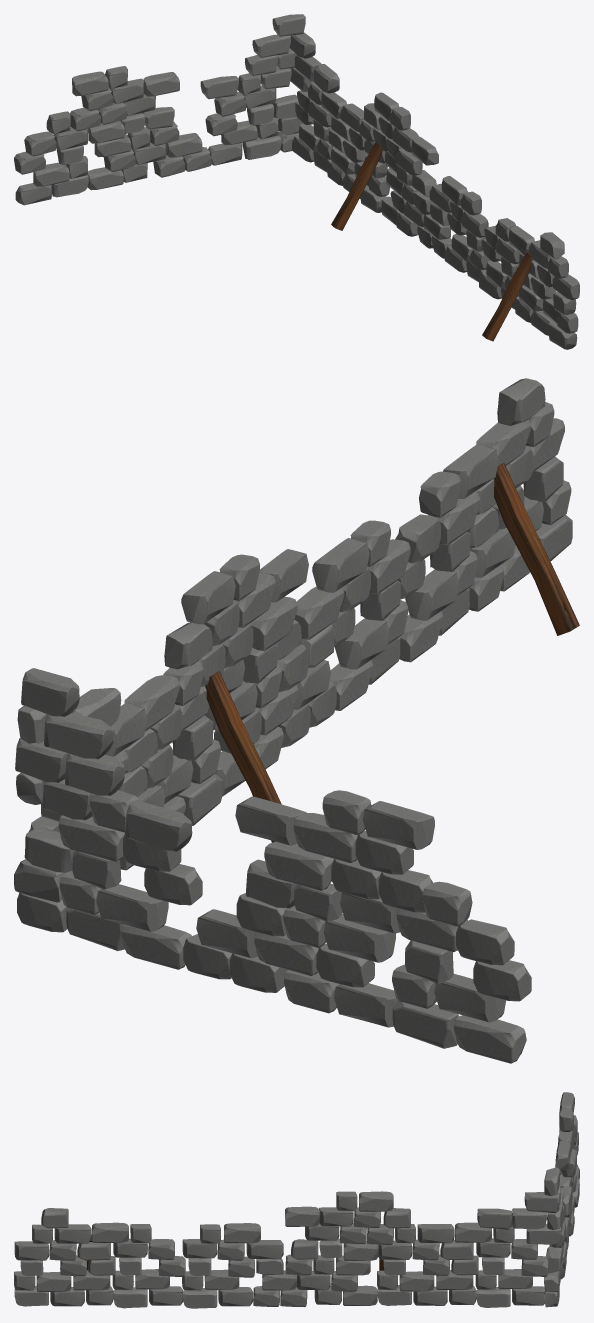
File: BigCampWallL.fbx
3 renders of one model, top to bottom at view 1: azimuth 30°, elevation 25°; view 2: azimuth 150°, elevation 25°; view 3: azimuth 270°, elevation 25°, orthographic. The views are drawn at different scales.
Visible parts, largest first — view 1: BigCampWallL; view 2: BigCampWallL; view 3: BigCampWallL.
Part boxes in pixels (x1=…): BigCampWallL: x1=14, y1=14, x2=579, y2=349; BigCampWallL: x1=14, y1=378, x2=579, y2=1063; BigCampWallL: x1=14, y1=1092, x2=579, y2=1308.
Size of the model in its own units: 34.39 by 16.6 by 62.29.
1 material, 1 textured.
